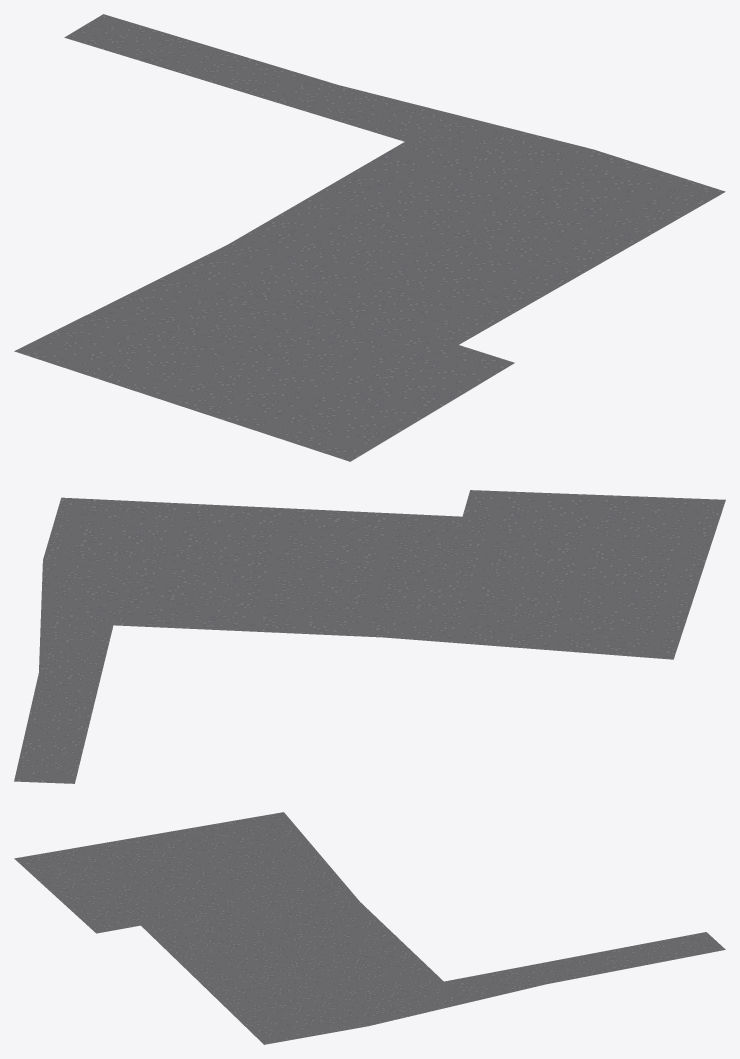
Rendered from kd_stage_136599_16_5.glb.
3 views of the same model, one above another, from view 1: azimuth 30°, elevation 25°; view 2: azimuth 150°, elevation 25°; view 3: azimuth 270°, elevation 25° (orthographic). The views are drawn at different scales.
Parts seen in each view (by area): view 1: kd_stage_136599_16_5; view 2: kd_stage_136599_16_5; view 3: kd_stage_136599_16_5.
Boxes of the visible parts, <box> form: kd_stage_136599_16_5: <box>14,14,725,461</box>; kd_stage_136599_16_5: <box>14,490,725,783</box>; kd_stage_136599_16_5: <box>14,812,725,1044</box>.
Bounding box in the file's own units: 19.08 × 0 × 24.66.
1 material, 1 textured.
